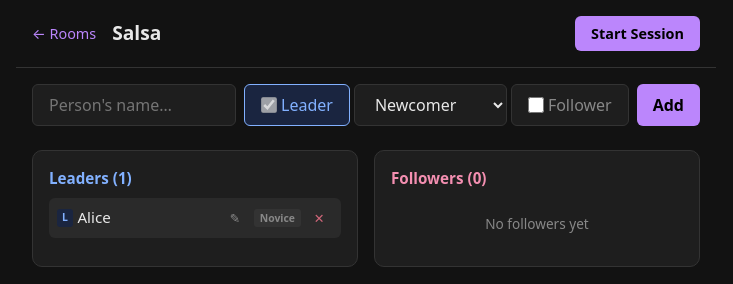
Room page › person rename › commits rename on blur
Click the button named "rename person".
click(236, 218)  # box left=222, top=204, right=250, bottom=232
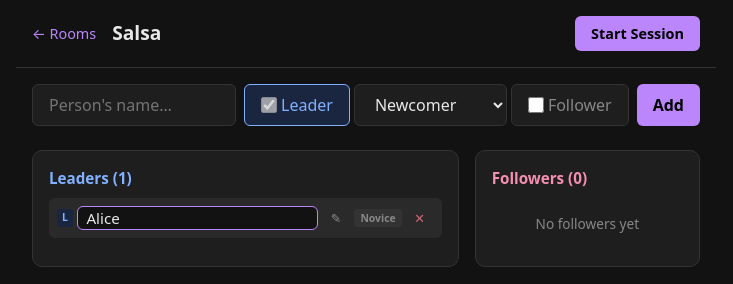
Replace the text in the field showing "Alice" with "Alicia" at {"x": 198, "y": 218}, box left=77, top=206, right=318, bottom=230
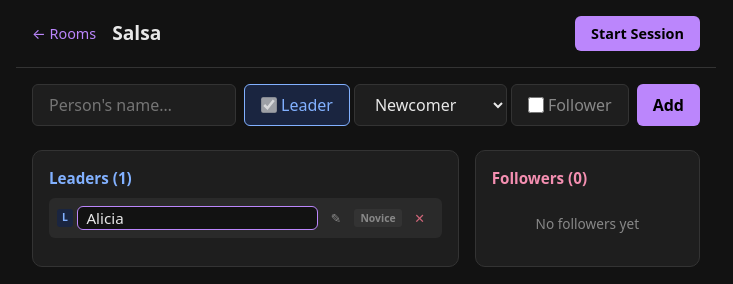
Press Tab
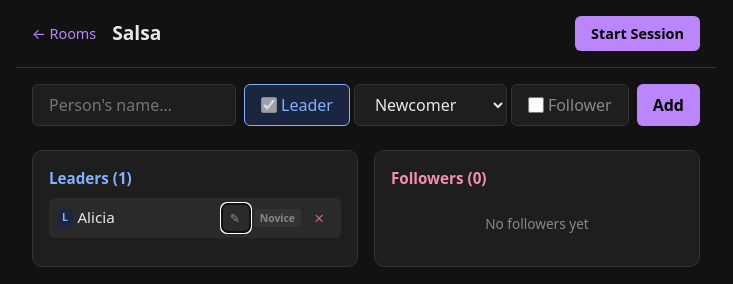
Check: the text "Alicia" is shown, box left=77, top=207, right=115, bottom=227
